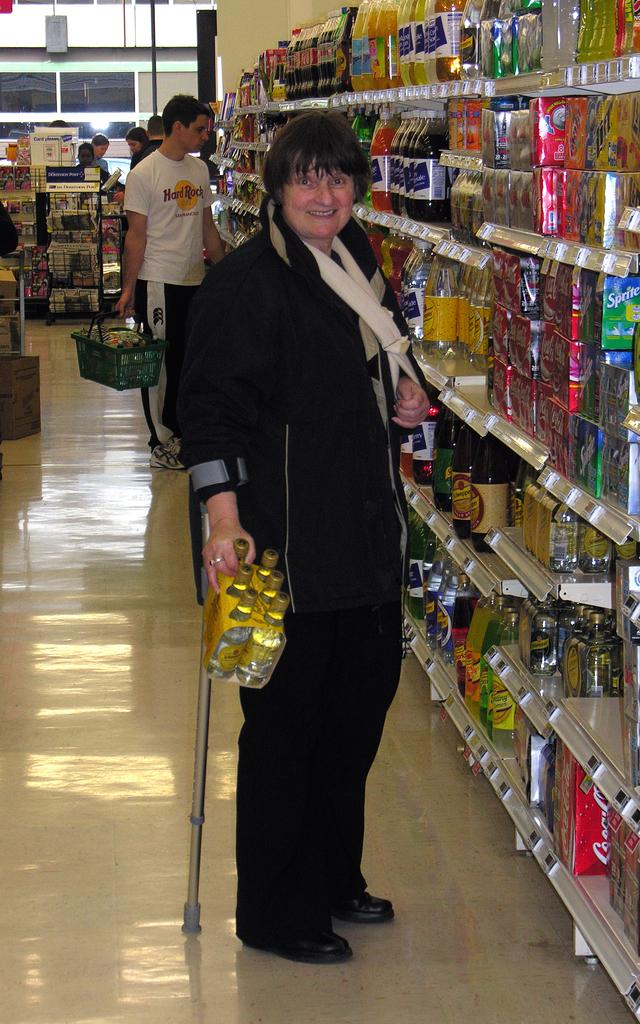crutches: (160, 98, 441, 972)
